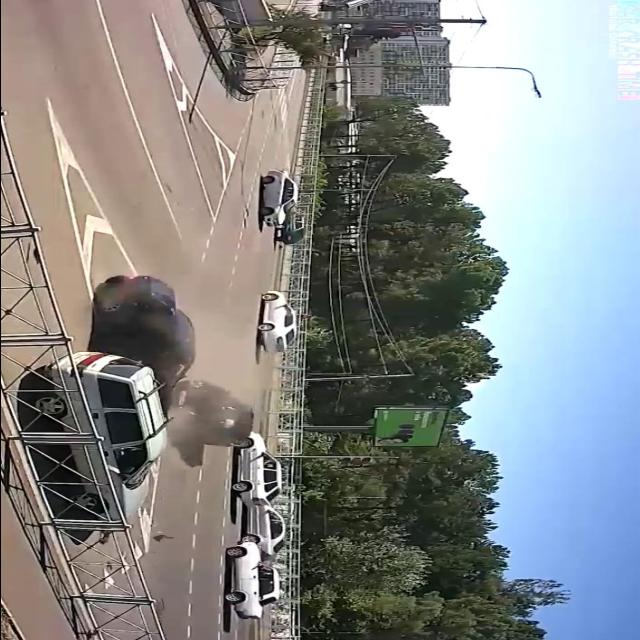accident: (86, 270, 258, 453)
non_accident: (218, 427, 295, 624), (253, 166, 313, 250)
